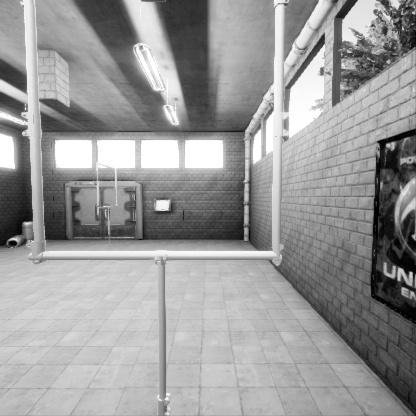gate: (22, 164, 312, 416), (96, 209, 117, 255)
